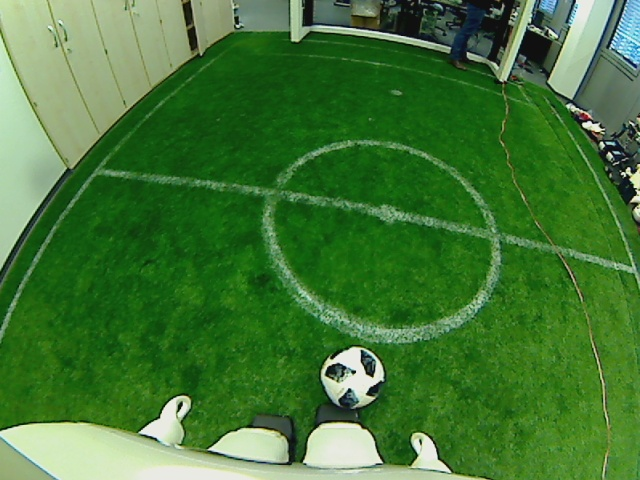ball: (320, 343, 386, 410)
